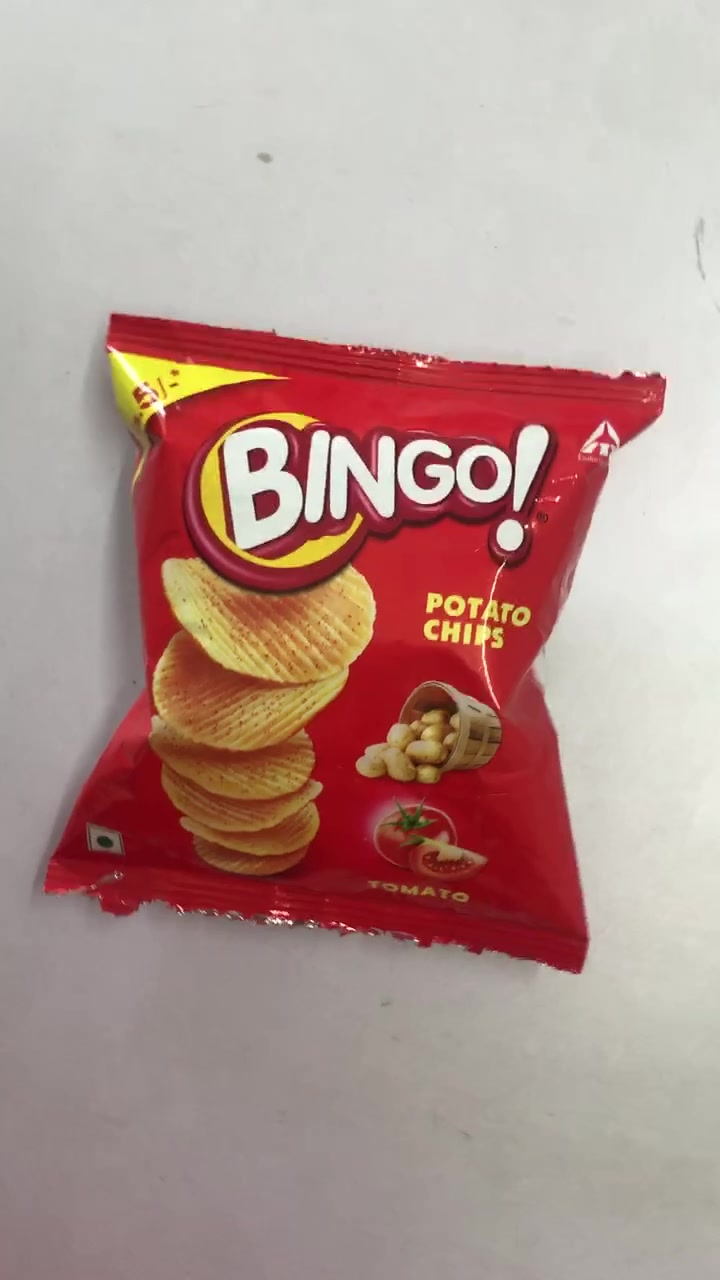Bingo: (44, 314, 663, 971)
